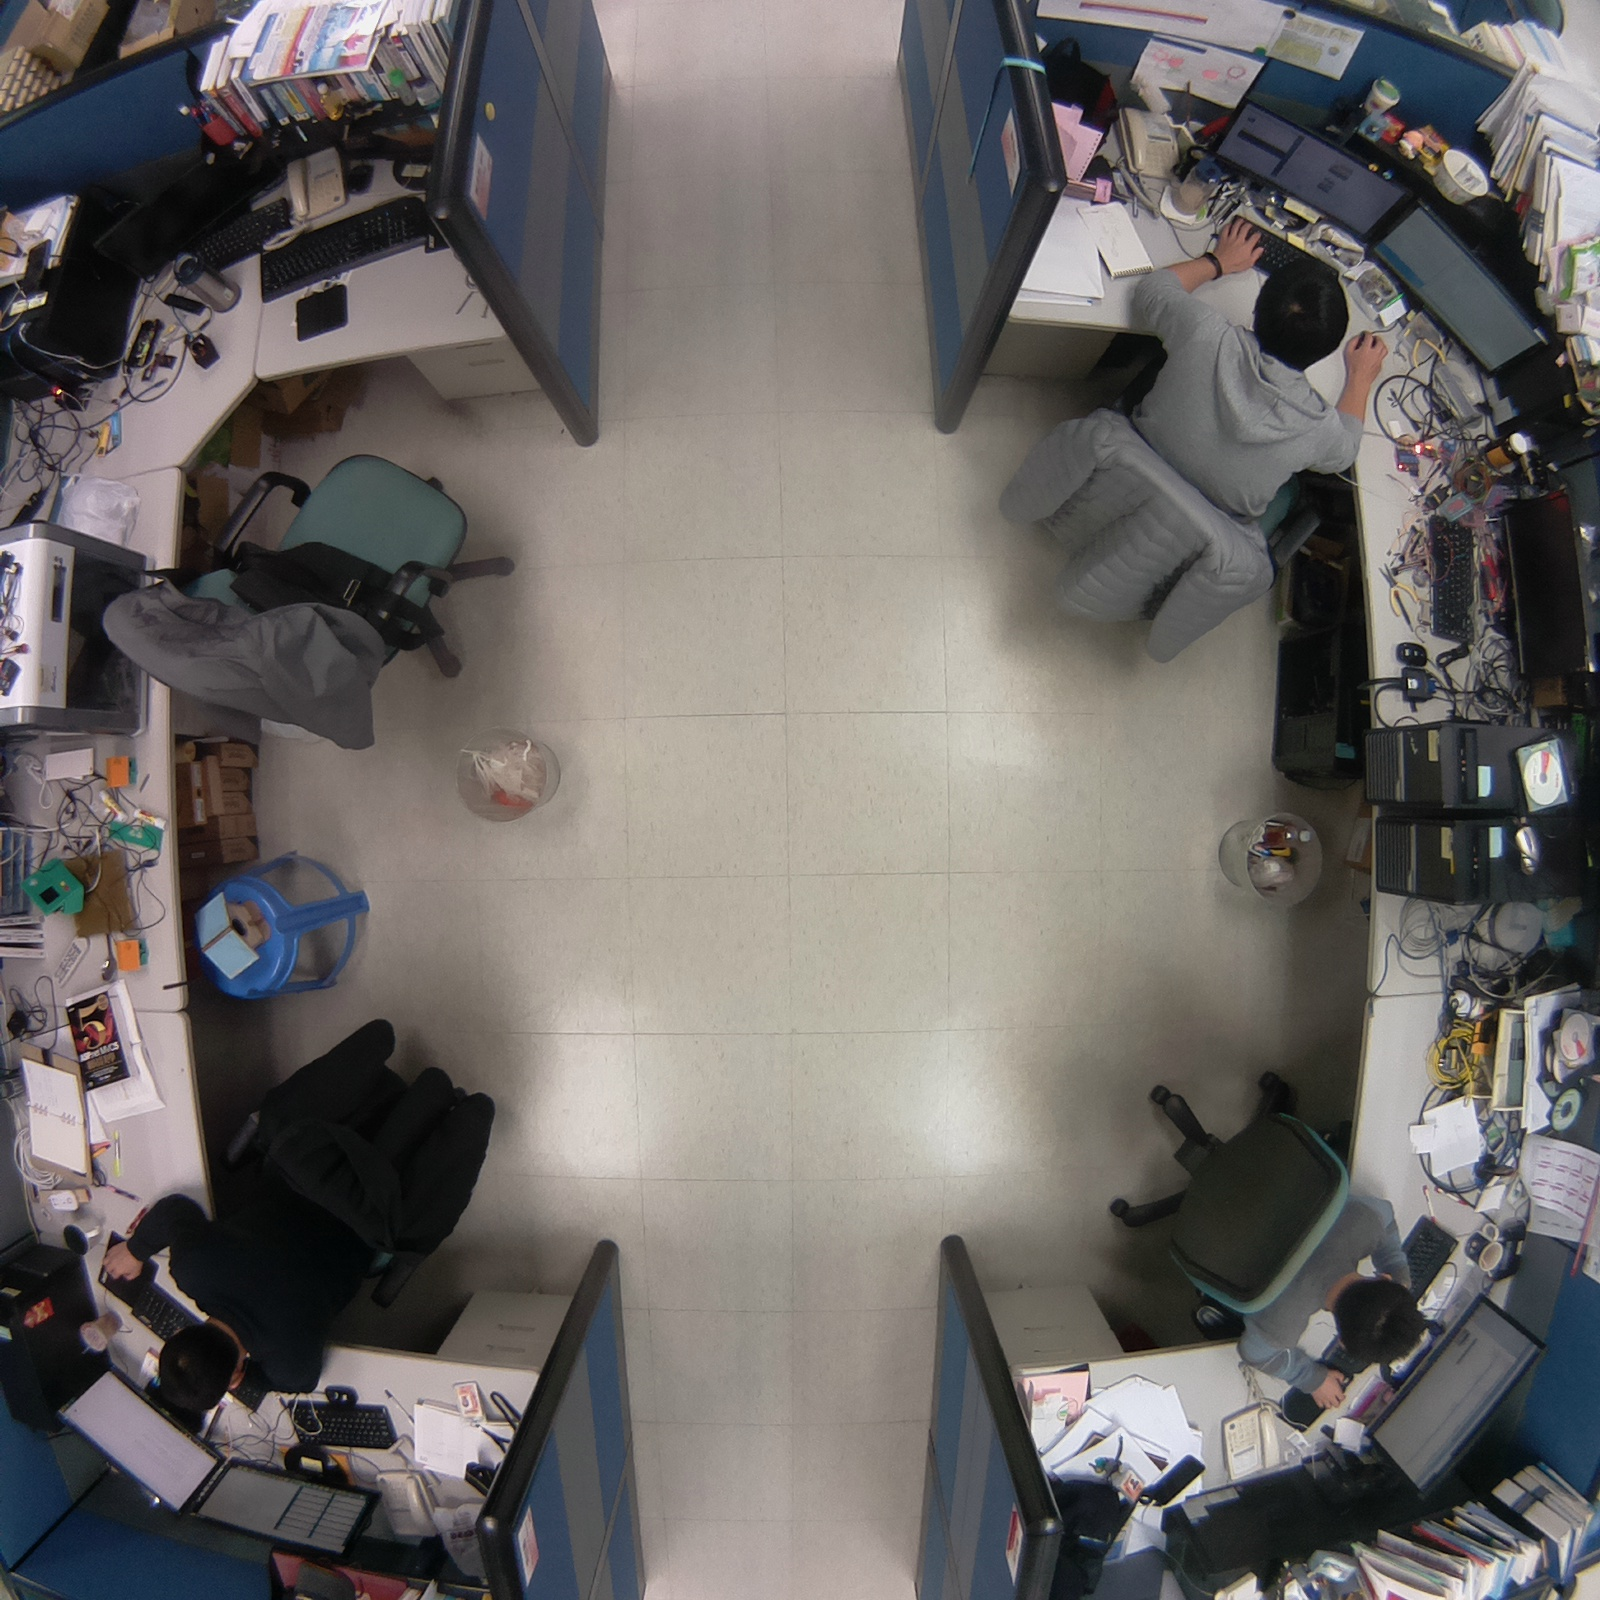chair: (83, 427, 540, 770)
head: (1317, 1265, 1434, 1372), (1249, 253, 1353, 370), (146, 1312, 251, 1421)
sitting: (981, 206, 1396, 670), (90, 993, 509, 1429), (1083, 1027, 1436, 1415)
